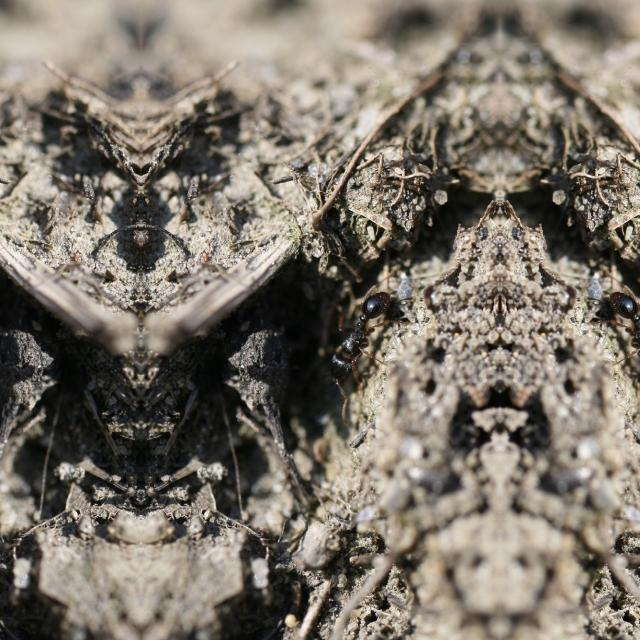Tetramorium: (304, 258, 418, 404), (580, 258, 640, 402)
